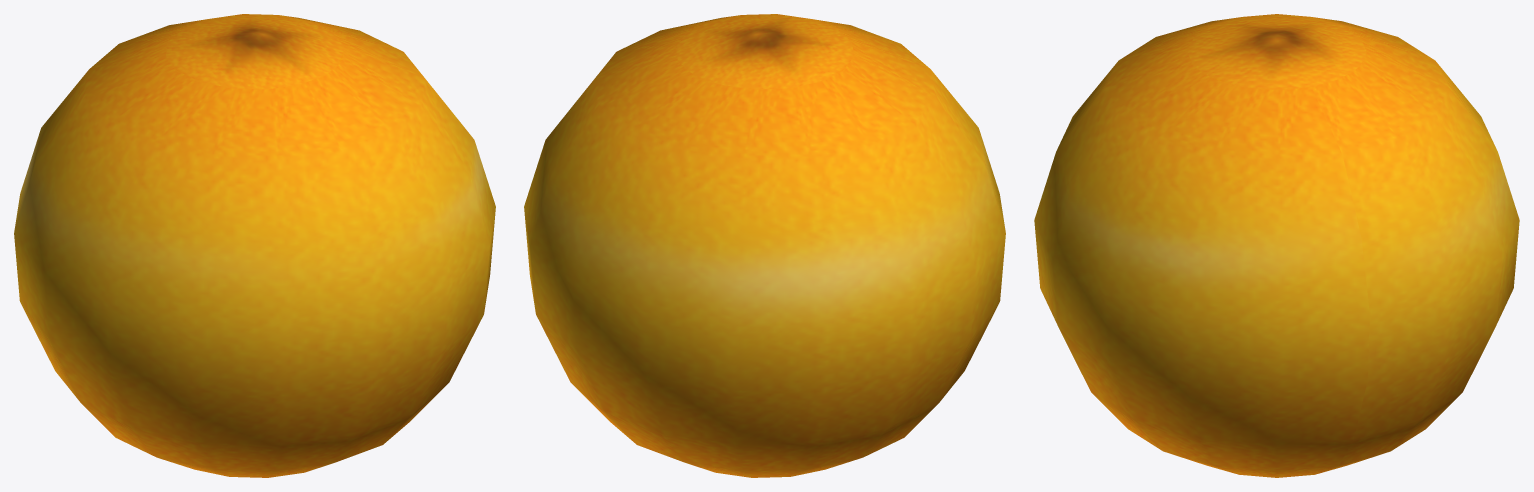
File: 002-Apple_Orange.FBX
3 renders of one model, left to right at view 1: azimuth 30°, elevation 25°; view 2: azimuth 150°, elevation 25°; view 3: azimuth 270°, elevation 25°, orthographic.
Visible parts, largest first — view 1: 002-Apple_Orange; view 2: 002-Apple_Orange; view 3: 002-Apple_Orange.
Part boxes in pixels (<box>): 002-Apple_Orange: <box>14,14,495,477</box>; 002-Apple_Orange: <box>524,14,1005,477</box>; 002-Apple_Orange: <box>1034,14,1519,477</box>.
Bounding box in the file's own units: 11.78 × 11.25 × 11.78.
